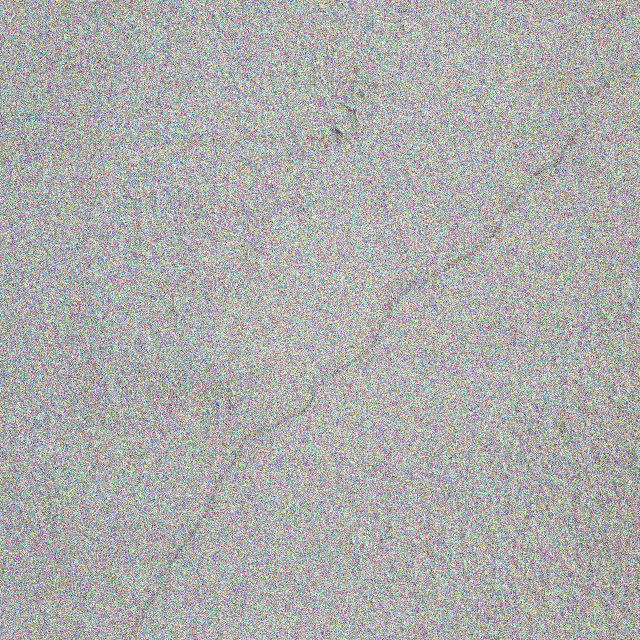SurfaceCrack: (2, 3, 639, 640)
